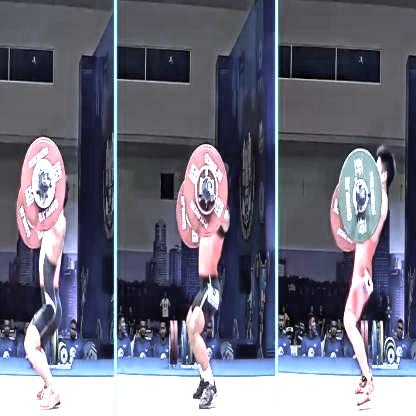Barbell: (37, 167, 48, 190), (356, 183, 366, 203), (203, 177, 212, 196)
